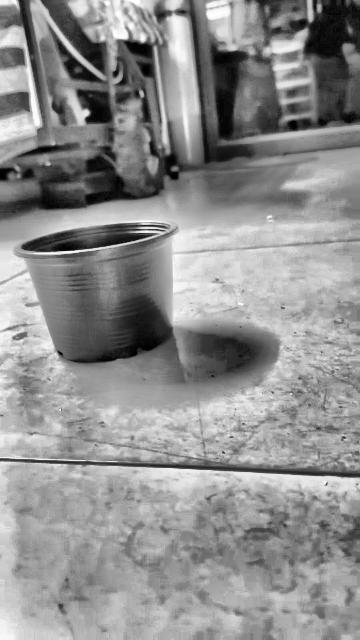pot: (14, 222, 178, 362)
